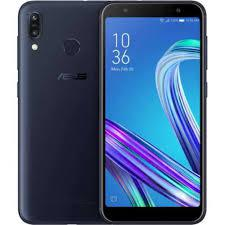Smartphone: (21, 0, 125, 222), (103, 0, 201, 220)
